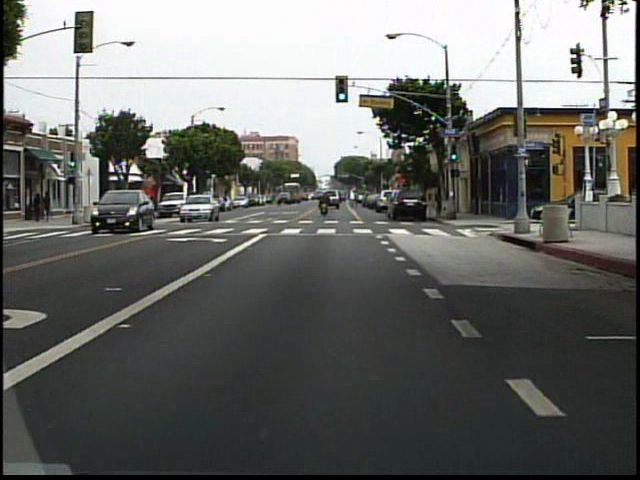person: (33, 192, 46, 225), (317, 189, 330, 218), (45, 190, 56, 222)
